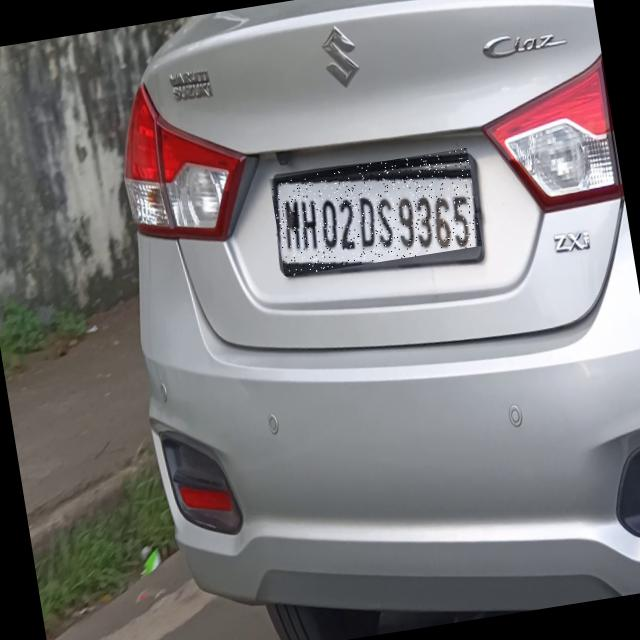Plate: (271, 149, 484, 278)
